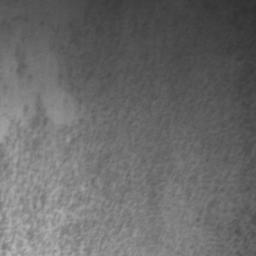Pitted surface: (0, 0, 256, 256), (0, 0, 44, 106)
